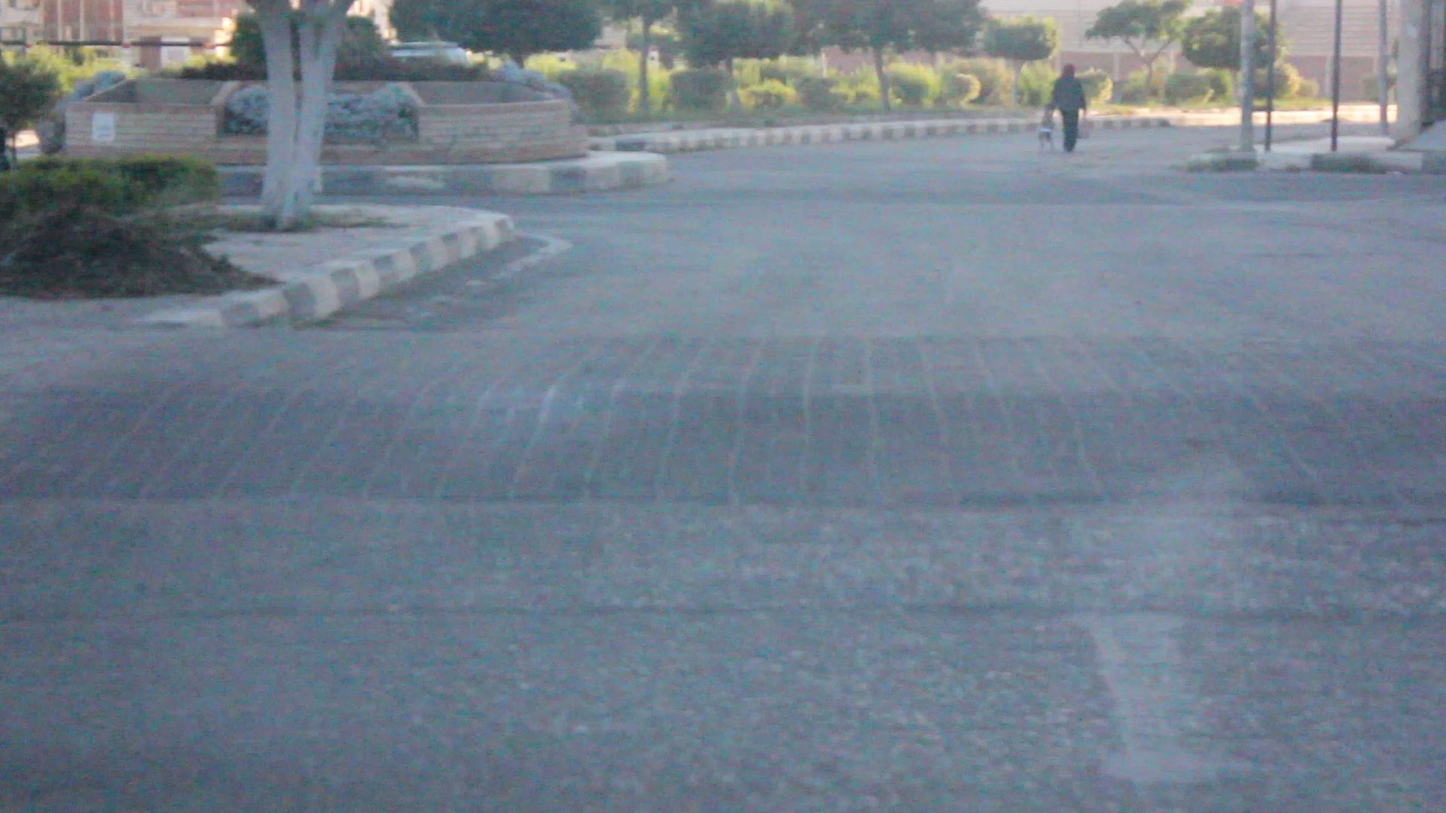Bump: (2, 317, 1445, 497)
